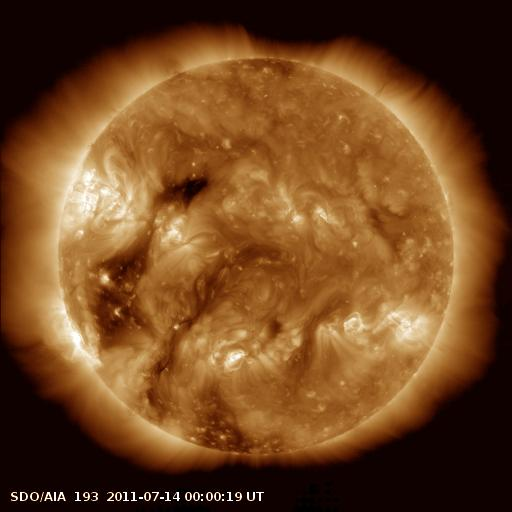coronal_hole: (84, 221, 157, 357), (149, 169, 217, 216)
